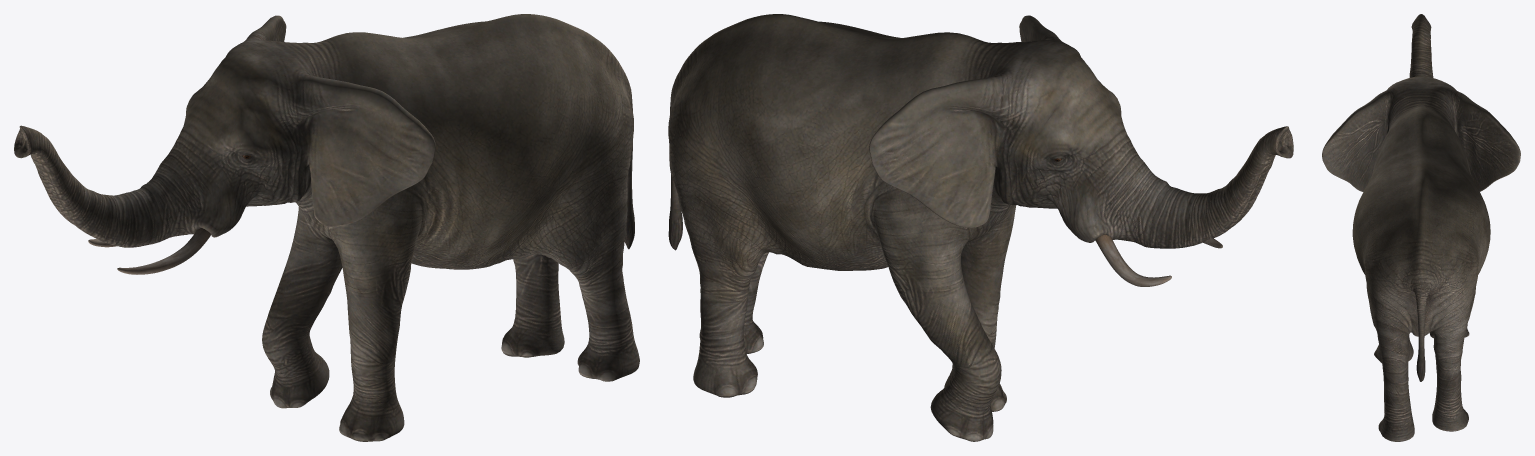
The model's file is elephant.obj.
3 views of the same model, side by side, from view 1: azimuth 30°, elevation 25°; view 2: azimuth 150°, elevation 25°; view 3: azimuth 270°, elevation 25° (orthographic). The views are drawn at different scales.
Visible parts, largest first — view 1: node_id36; view 2: node_id36; view 3: node_id36.
Part boxes in pixels (x1,y1,x2,y2): node_id36: (14,14,639,441); node_id36: (668,14,1293,441); node_id36: (1322,14,1520,441).
Bounding box in the file's own units: 1.19 × 0.7096 × 0.5108.
Materials: 1 (1 with a texture image).
